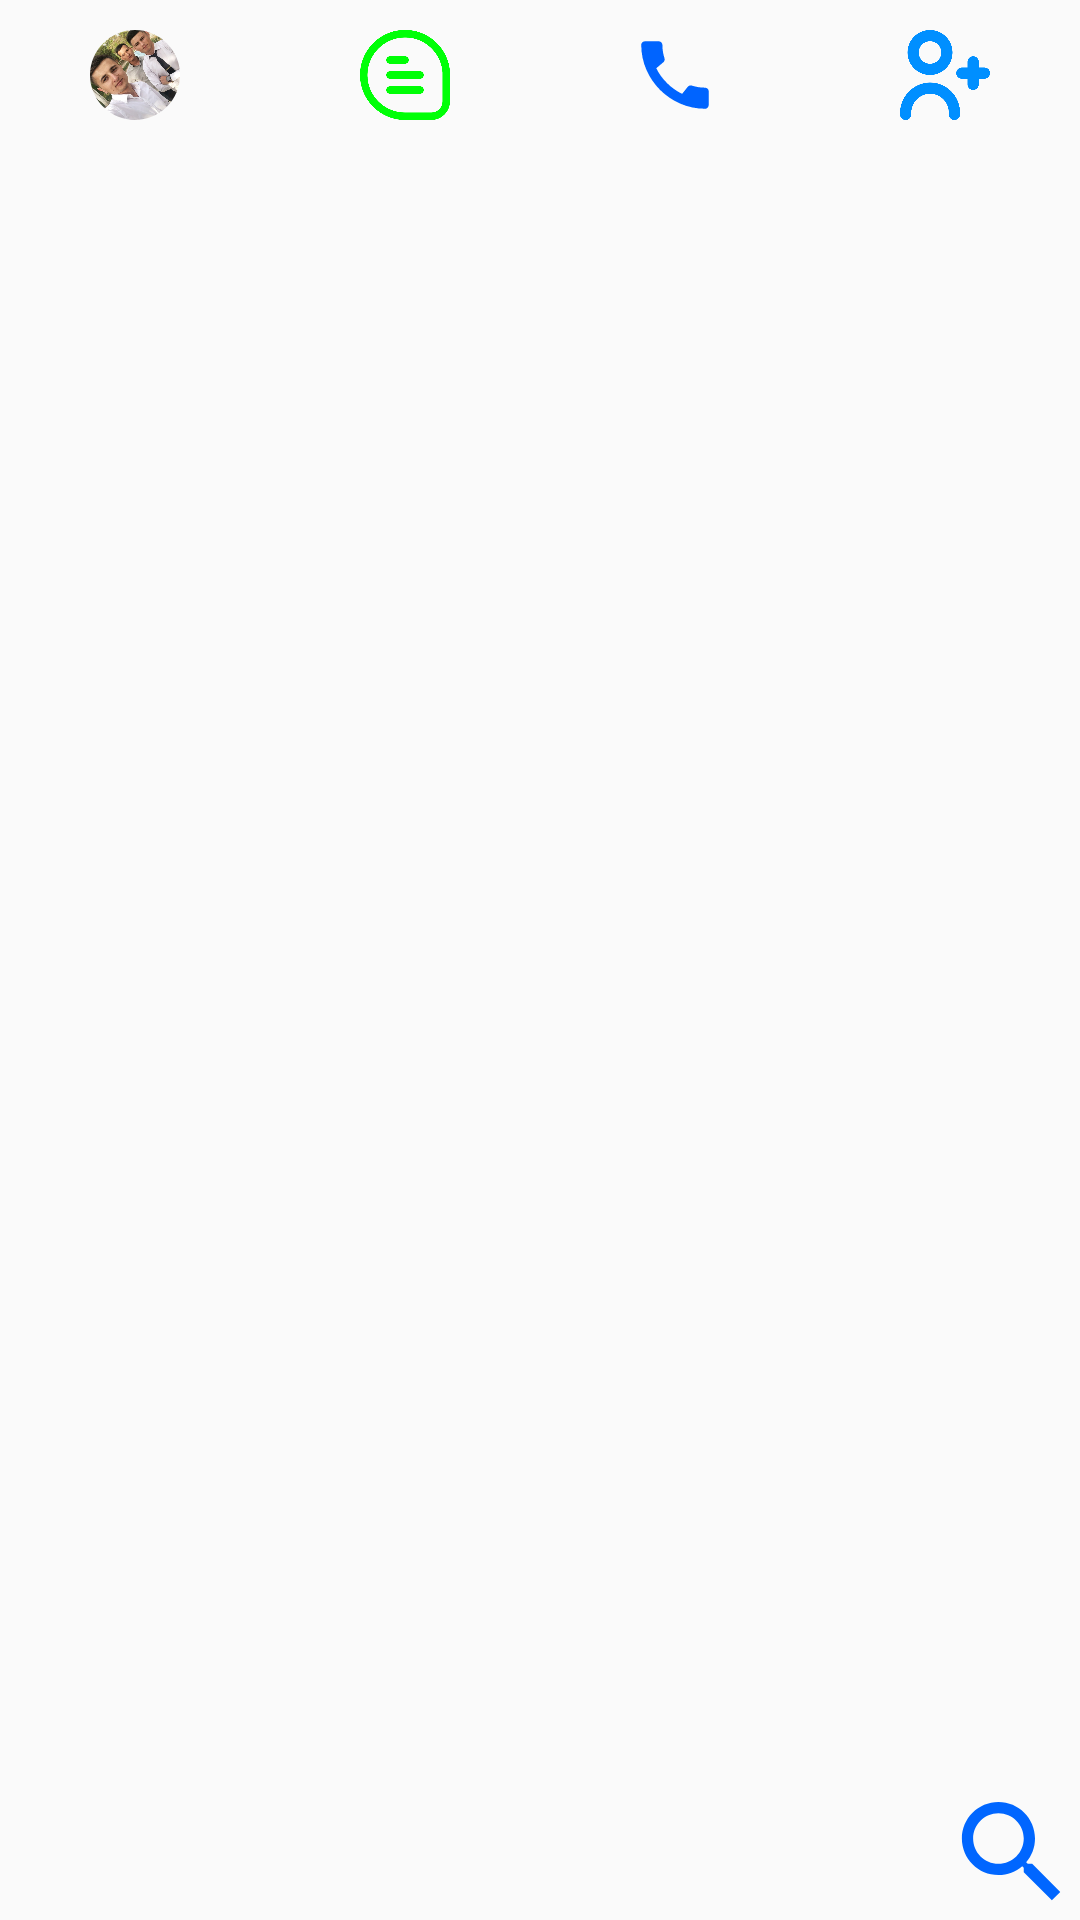

Where to tap for icons on this 1080*1920 app screen, as (x,y):
add user: (945,75)
call: (675,75)
search: (1010,1851)
user: (135,75)
